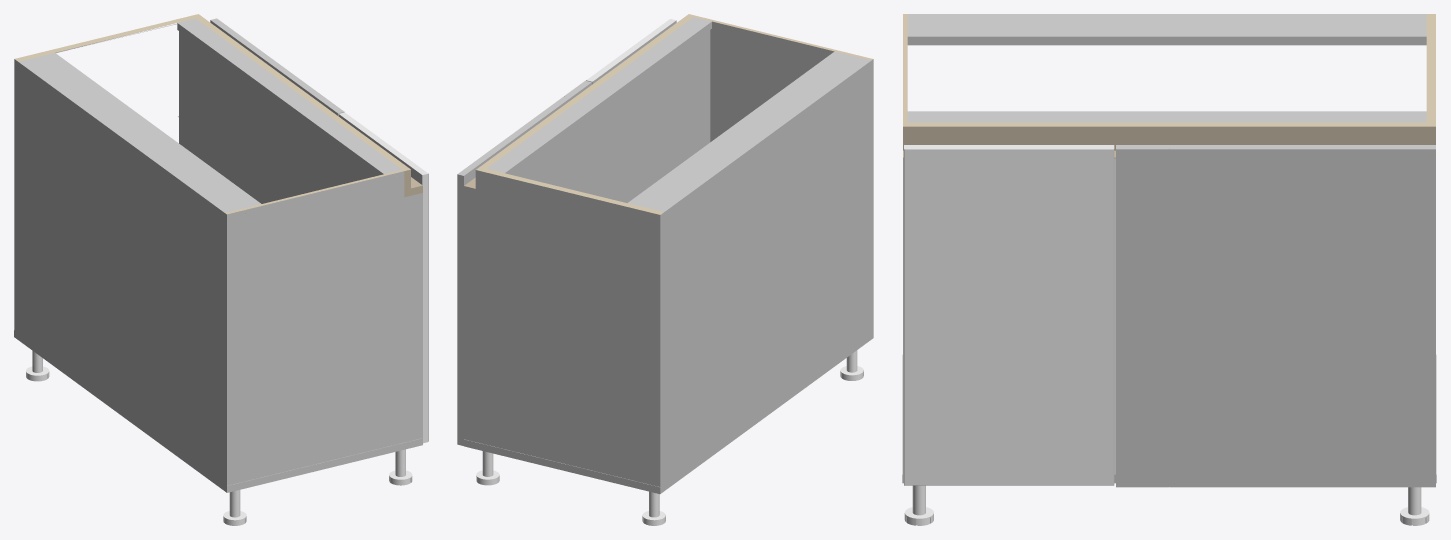
File: el_ugao_100cm_2.glb
3 views of the same model, side by side, from view 1: azimuth 30°, elevation 25°; view 2: azimuth 150°, elevation 25°; view 3: azimuth 270°, elevation 25° (orthographic). The views are drawn at different scales.
Visible parts, largest first — view 1: Group1; view 2: Group1; view 3: Group1.
Part boxes in pixels (left/top/right/bottom): Group1: left=14, top=14, right=428, bottom=525; Group1: left=457, top=14, right=873, bottom=525; Group1: left=902, top=14, right=1436, bottom=525.
Size of the model in its own units: 550 by 817 by 1001.
